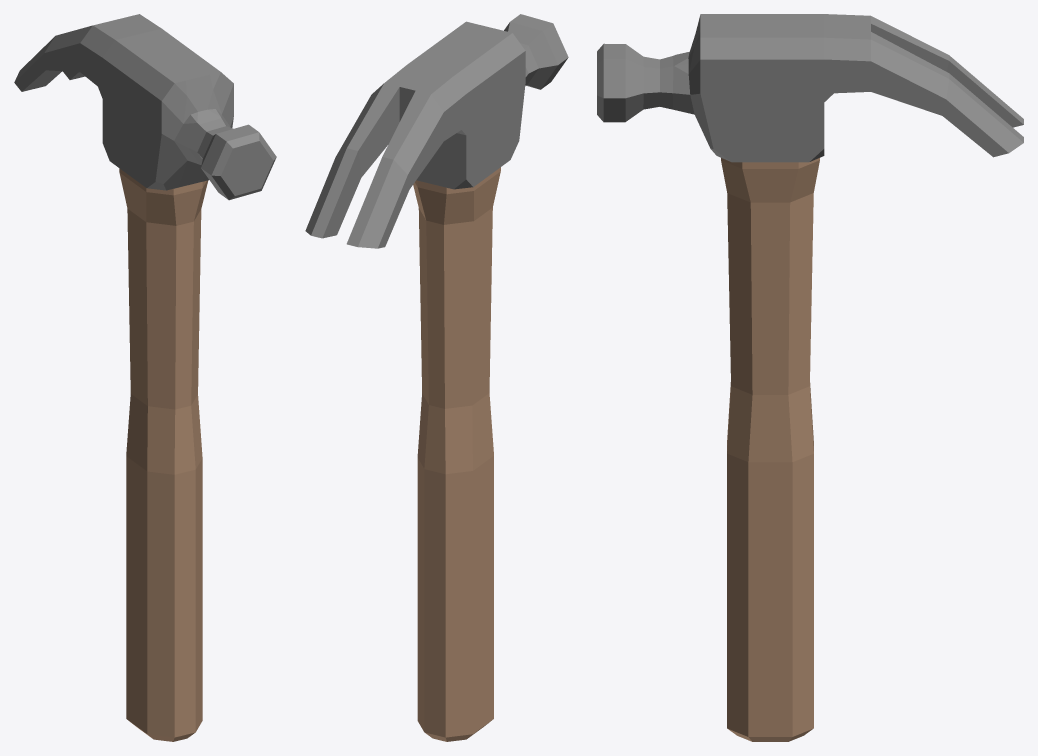
The model's file is scene_Cyd3O9RyaC.glb.
3 renders of one model, left to right at view 1: azimuth 30°, elevation 25°; view 2: azimuth 150°, elevation 25°; view 3: azimuth 270°, elevation 25°, orthographic. The views are drawn at different scales.
Parts seen in each view (by area): view 1: Hammer_Cube; view 2: Hammer_Cube; view 3: Hammer_Cube.
Boxes of the visible parts, x1=… form: Hammer_Cube: x1=14, y1=14, x2=276, y2=741; Hammer_Cube: x1=305, y1=14, x2=568, y2=741; Hammer_Cube: x1=597, y1=14, x2=1023, y2=741.
Size of the model in its own units: 0.0816 by 0.7292 by 0.3996.
